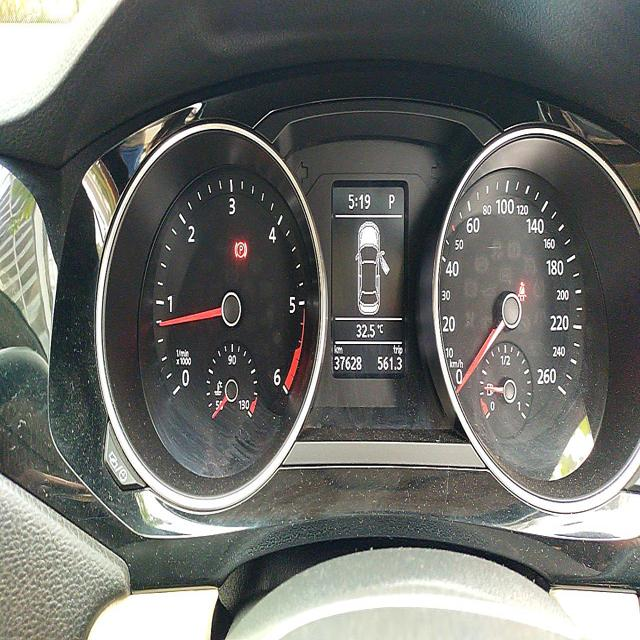odometer: (333, 354, 364, 372)
